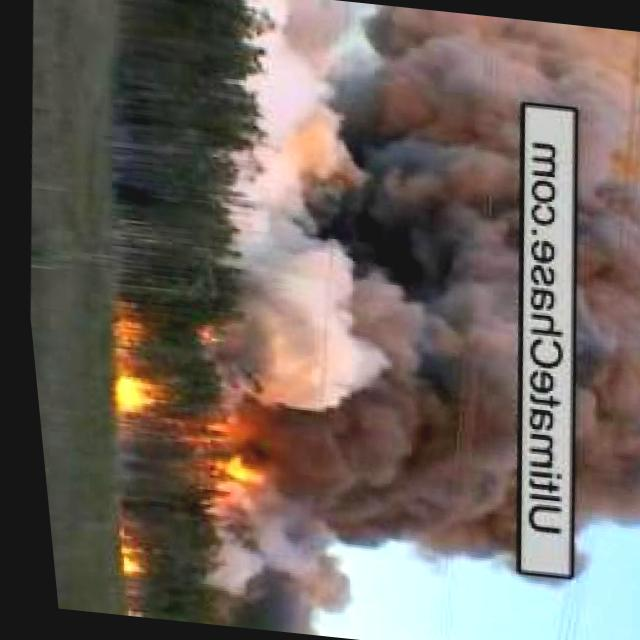helmet: (207, 456, 269, 494), (107, 374, 162, 416), (98, 315, 140, 356), (104, 539, 143, 580)
no_helmet: (174, 0, 567, 640), (530, 26, 640, 554)
